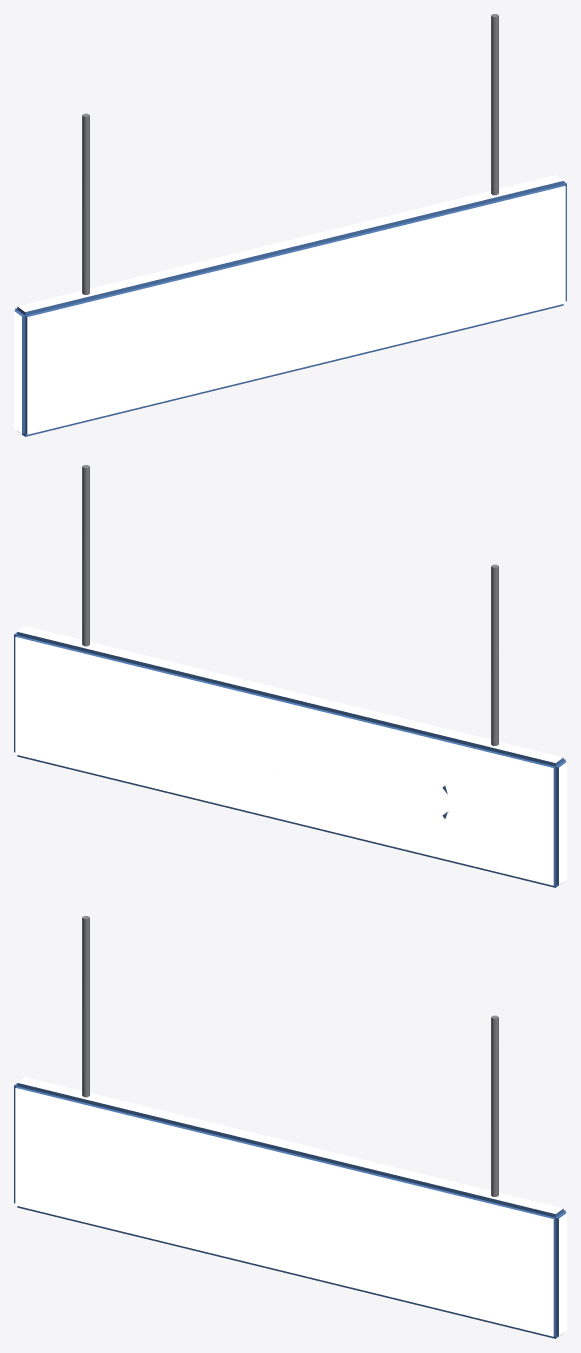
File: sign_platform4.glb
3 views of the same model, one above another, from view 1: azimuth 30°, elevation 25°; view 2: azimuth 150°, elevation 25°; view 3: azimuth 330°, elevation 25° (orthographic).
Parts seen in each view (by area): view 1: sign_platform4; view 2: sign_platform4; view 3: sign_platform4.
Boxes of the visible parts, bbox=[...] form: sign_platform4: bbox=[14, 14, 566, 436]; sign_platform4: bbox=[14, 465, 566, 887]; sign_platform4: bbox=[14, 916, 566, 1338].
Size of the model in its own units: 3.2 by 1.7 by 0.15.
